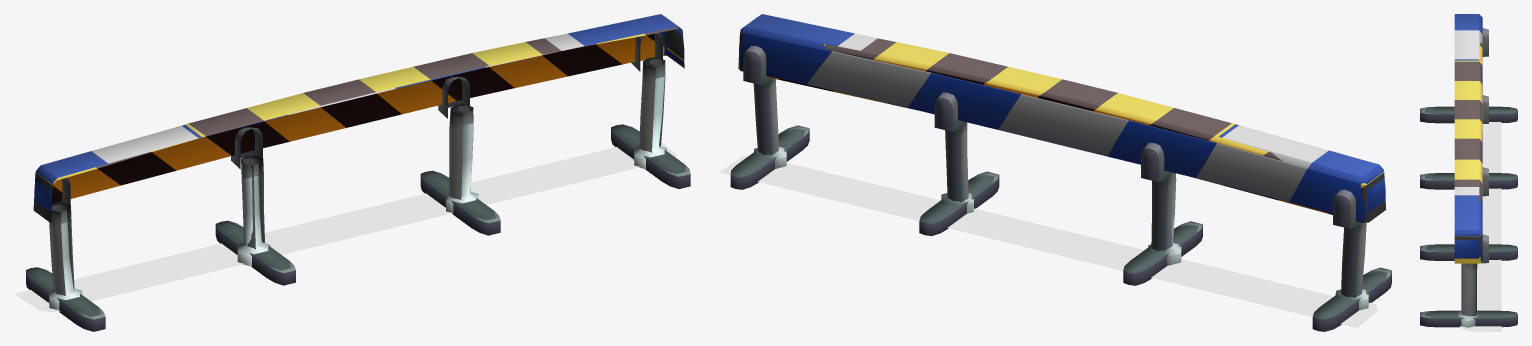
The model's file is city_longOverUnder_roadworks.fbx.
The picture shows the model from 3 angles, left to right: view 1: azimuth 30°, elevation 25°; view 2: azimuth 150°, elevation 25°; view 3: azimuth 270°, elevation 25°; orthographic projection. The views are drawn at different scales.
Visible parts, largest first — view 1: city_longOverUnder_roadworks, city_longOverUnder_roadworks_SummerSports, roadworksLongShadow; view 2: city_longOverUnder_roadworks_SummerSports, roadworksLongShadow, city_longOverUnder_roadworks; view 3: city_longOverUnder_roadworks_SummerSports, city_longOverUnder_roadworks, roadworksLongShadow.
Boxes of the visible parts, <box> form: city_longOverUnder_roadworks: <box>33,27,684,310</box>; city_longOverUnder_roadworks_SummerSports: <box>26,14,690,331</box>; roadworksLongShadow: <box>15,142,676,312</box>; city_longOverUnder_roadworks_SummerSports: <box>730,14,1391,331</box>; roadworksLongShadow: <box>719,155,1378,327</box>; city_longOverUnder_roadworks: <box>738,31,1385,310</box>; city_longOverUnder_roadworks_SummerSports: <box>1420,14,1517,327</box>; city_longOverUnder_roadworks: <box>1454,42,1482,327</box>; roadworksLongShadow: <box>1459,122,1501,331</box>.
Bounding box in the file's own units: 380 × 83.21 × 70.28.
